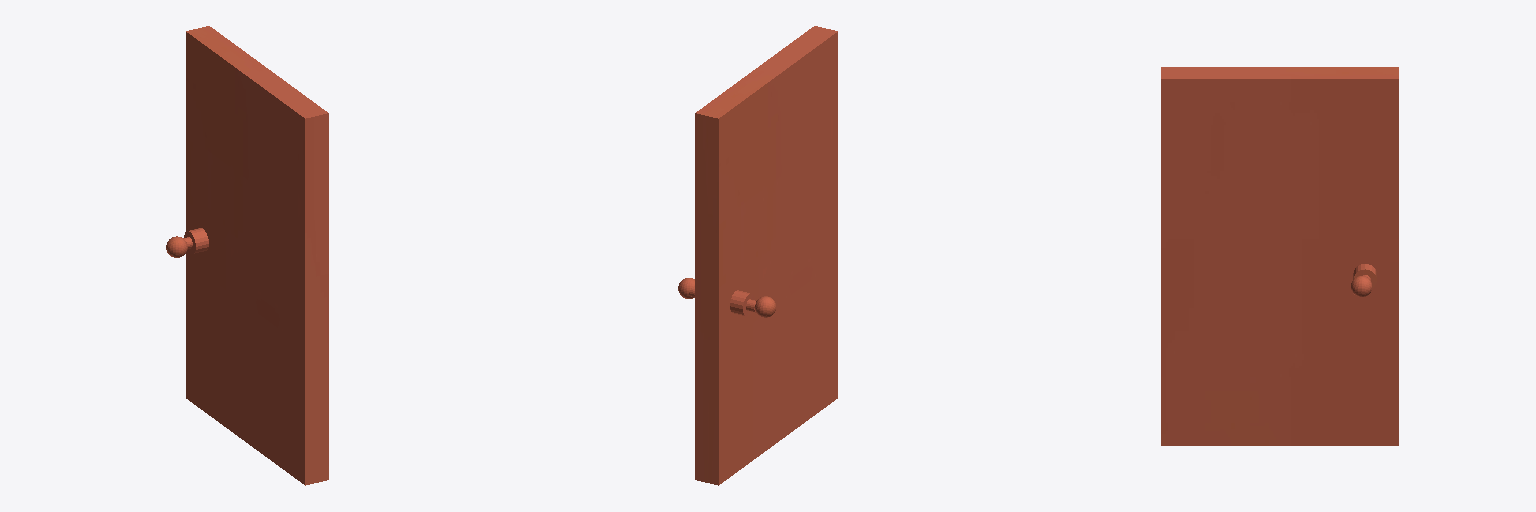
The picture shows the model from 3 angles: view 1: azimuth 30°, elevation 25°; view 2: azimuth 150°, elevation 25°; view 3: azimuth 270°, elevation 25°; orthographic projection.
Visible parts, largest first — view 1: pSphere3; view 2: pSphere3; view 3: pSphere3.
Part boxes in pixels (bbox=[...]): pSphere3: bbox=[166, 26, 328, 485]; pSphere3: bbox=[678, 26, 837, 485]; pSphere3: bbox=[1161, 67, 1398, 445].
Size of the model in its own units: 1.07 by 3.94 by 2.32.
Materials: 1 (1 with a texture image).